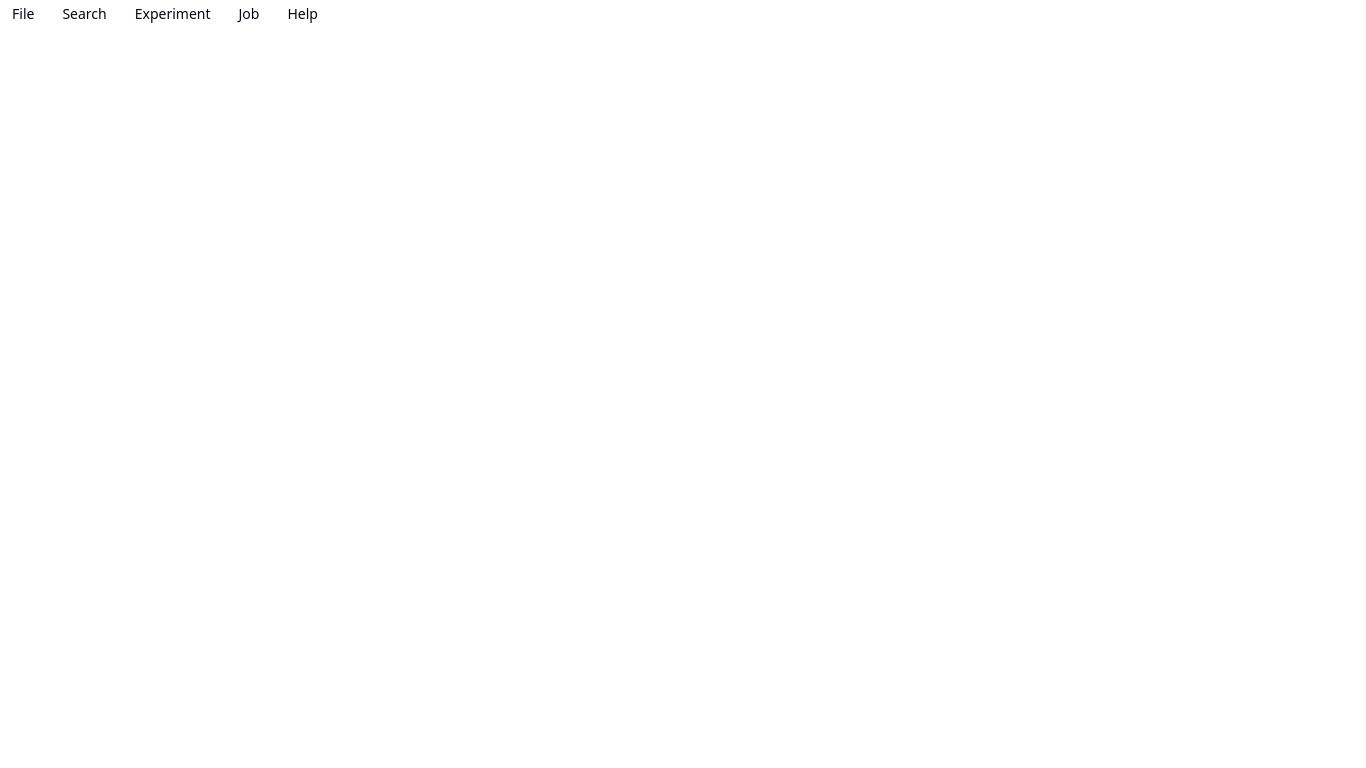
Scenario: MenuBarActions › opens change description dialog from Experiment menu
Click the menu item "Experiment" at (173, 14), box x1=123 y1=0 x2=222 y2=28
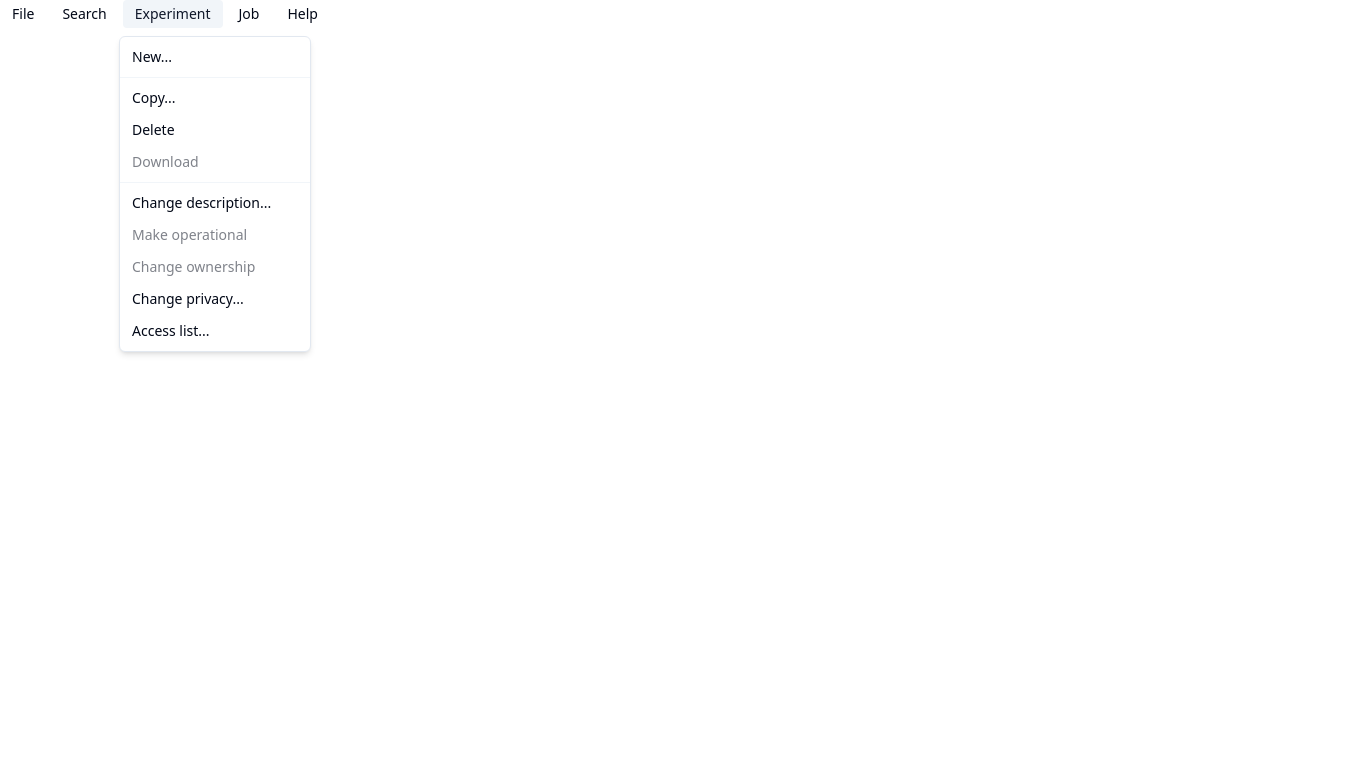
Click the menu item "Change description..." at (202, 202), box x1=132 y1=193 x2=271 y2=212
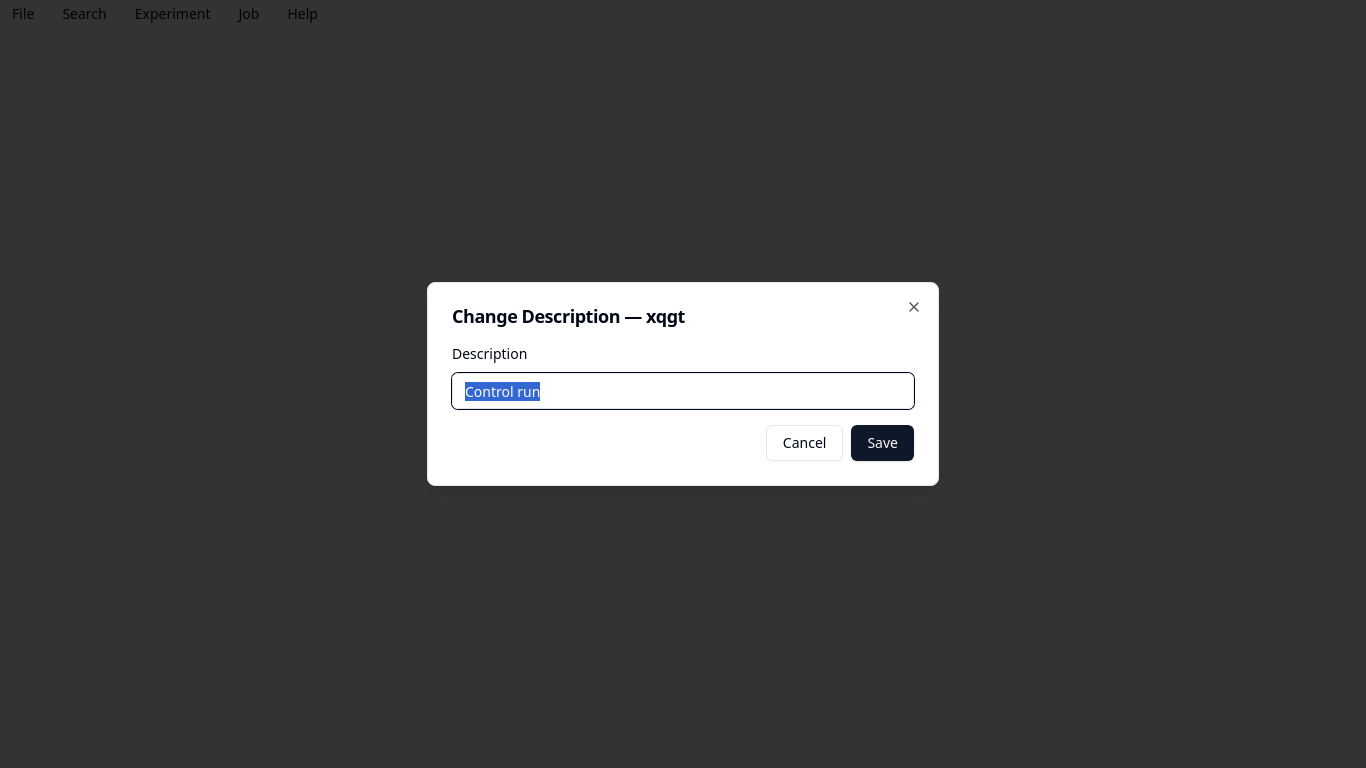
Expected: the heading "Change Description — xqgt" is shown, x1=452 y1=304 x2=685 y2=328
